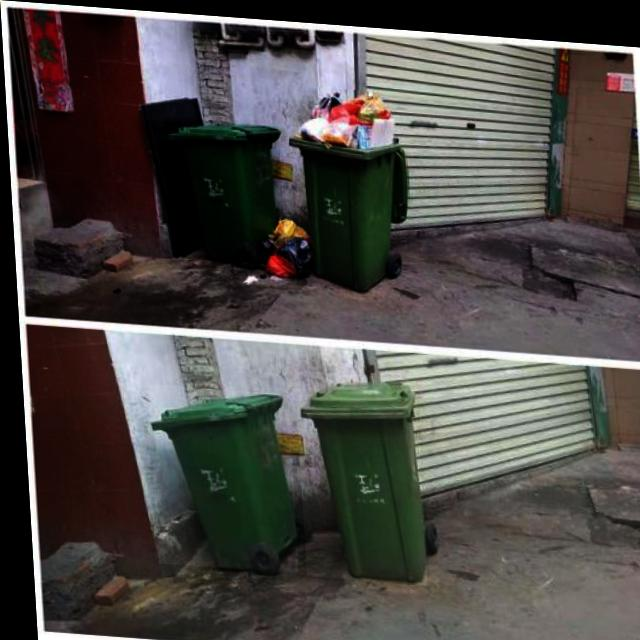garbage: (233, 207, 310, 285)
garbage_bin: (143, 382, 292, 570), (290, 366, 421, 579), (163, 115, 284, 262)
overflow: (284, 80, 412, 288)
